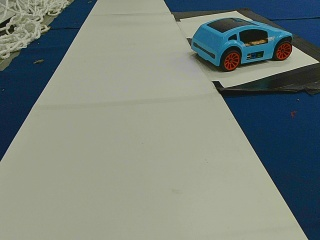car: (193, 17, 293, 71)
